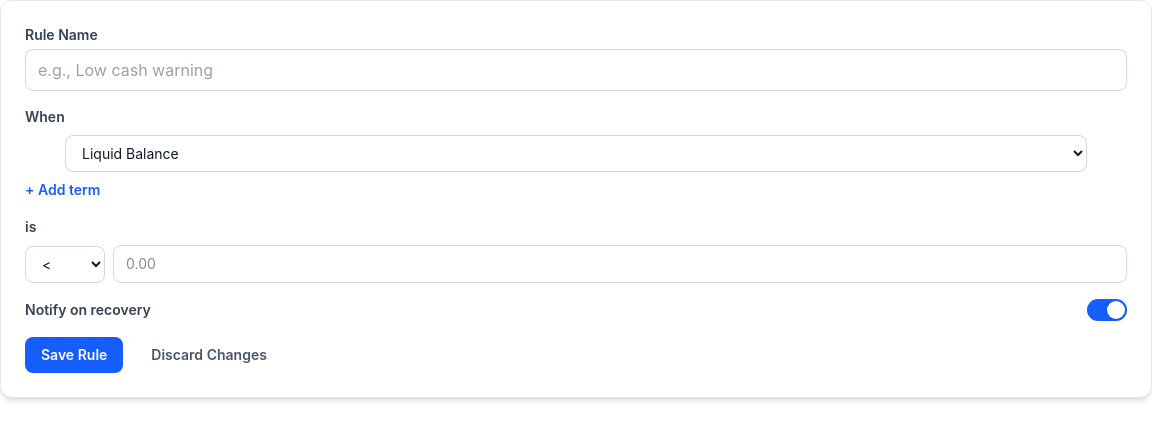
Test case: AlertRuleForm › validates empty name on submit
// Set threshold so only name fails
Type "5000" into the field with placeholder "0.00" at (620, 264), box [113, 245, 1127, 283]
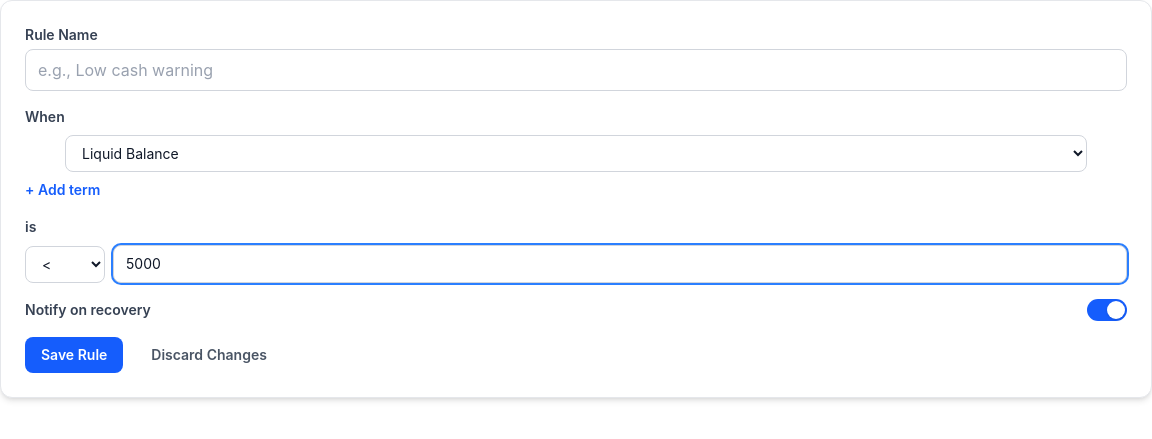
Click the button "Save Rule" at (74, 355), box [25, 337, 123, 373]
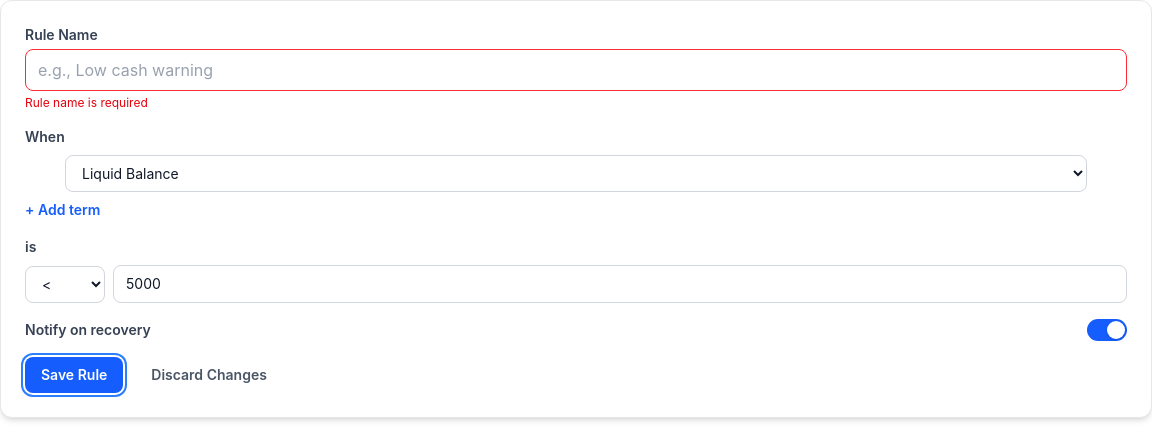
Expected: the text "Rule name is required" is shown, [25, 95, 148, 110]
